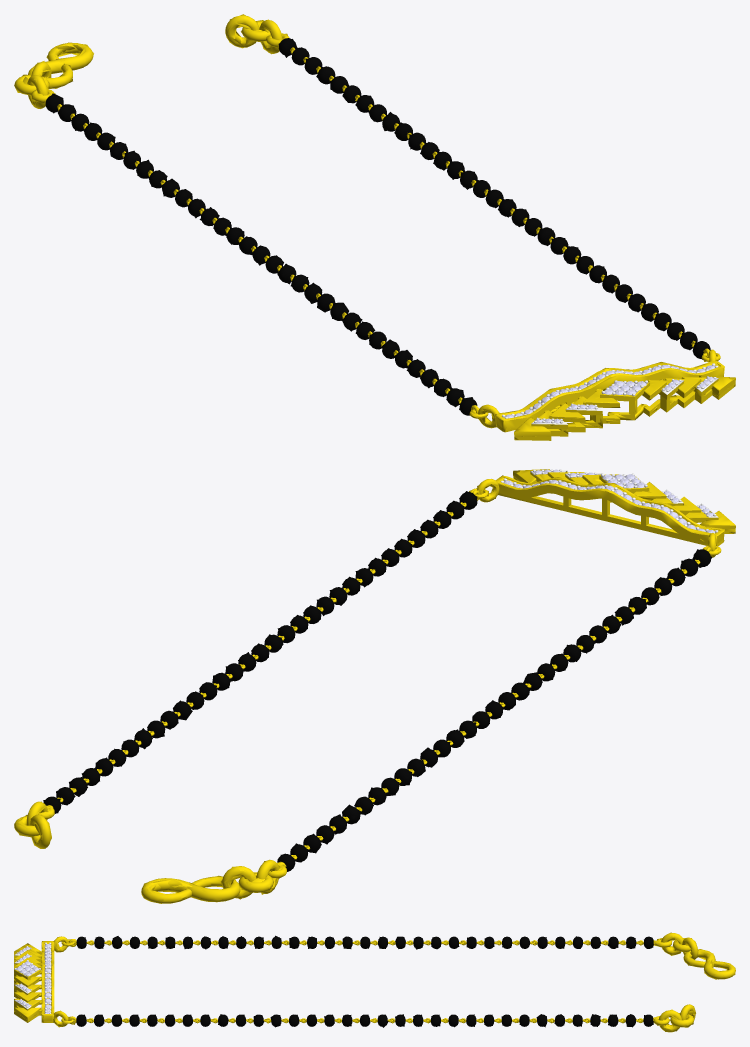
File: DPN-D000673500.glb
3 views of the same model, one above another, from view 1: azimuth 30°, elevation 25°; view 2: azimuth 150°, elevation 25°; view 3: azimuth 270°, elevation 25° (orthographic). The views are drawn at different scales.
Parts seen in each view (by area): view 1: highPolyMesh, lowPolyMesh; view 2: highPolyMesh, lowPolyMesh; view 3: highPolyMesh, lowPolyMesh.
Boxes of the visible parts, box(x1,y1,x2,y2) form: highPolyMesh: box(14, 15, 735, 440); lowPolyMesh: box(14, 14, 735, 439); highPolyMesh: box(14, 469, 735, 903); lowPolyMesh: box(16, 469, 735, 901); highPolyMesh: box(14, 933, 735, 1032); lowPolyMesh: box(14, 932, 735, 1031).
Bounding box in the file's own units: 0.0346 × 0.00556 × 0.1229.
